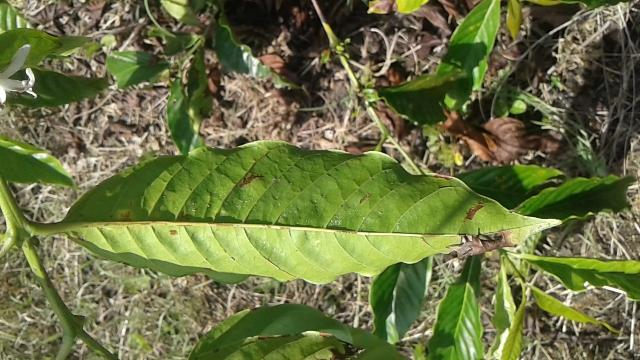rust_level_1: (56, 136, 566, 285)
